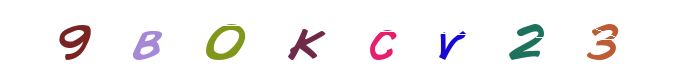0: (202, 0, 282, 80)
2: (487, 0, 567, 80)
3: (498, 0, 578, 80)
9: (137, 0, 217, 80)
B: (185, 0, 265, 80)
C: (341, 0, 421, 80)
K: (311, 0, 391, 80)
V: (408, 0, 488, 80)
